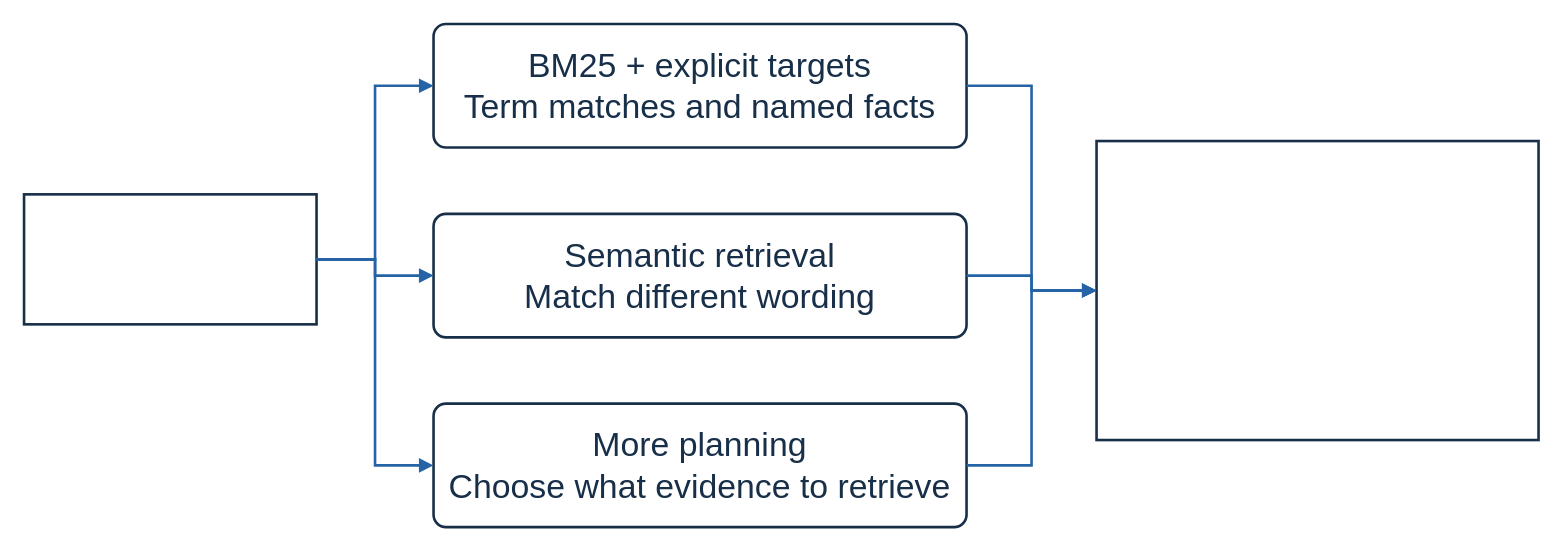
This 1561x550 diagram has some shape labels left out. Here are the shapes that lost their labels. From the top down, the centre of each, then its label:
the point at 169,258: Same questions Same material
the point at 1317,290: Shared checks All required facts covered? Unsupported answers stopped?
